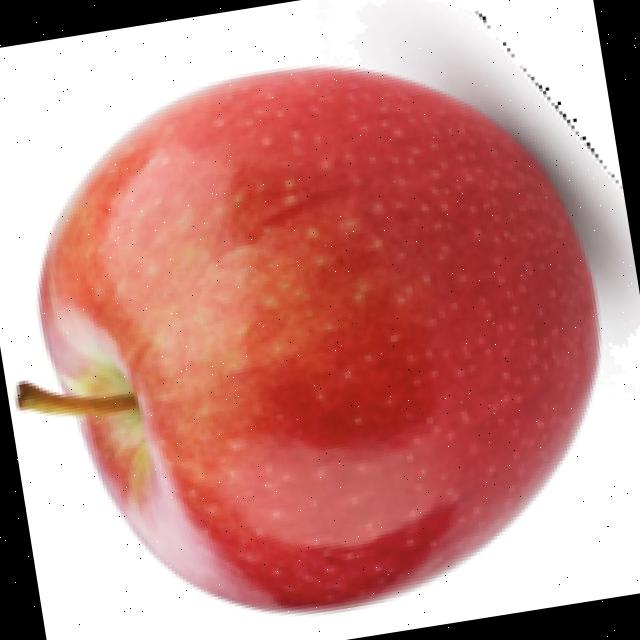apple: (10, 0, 640, 620)
